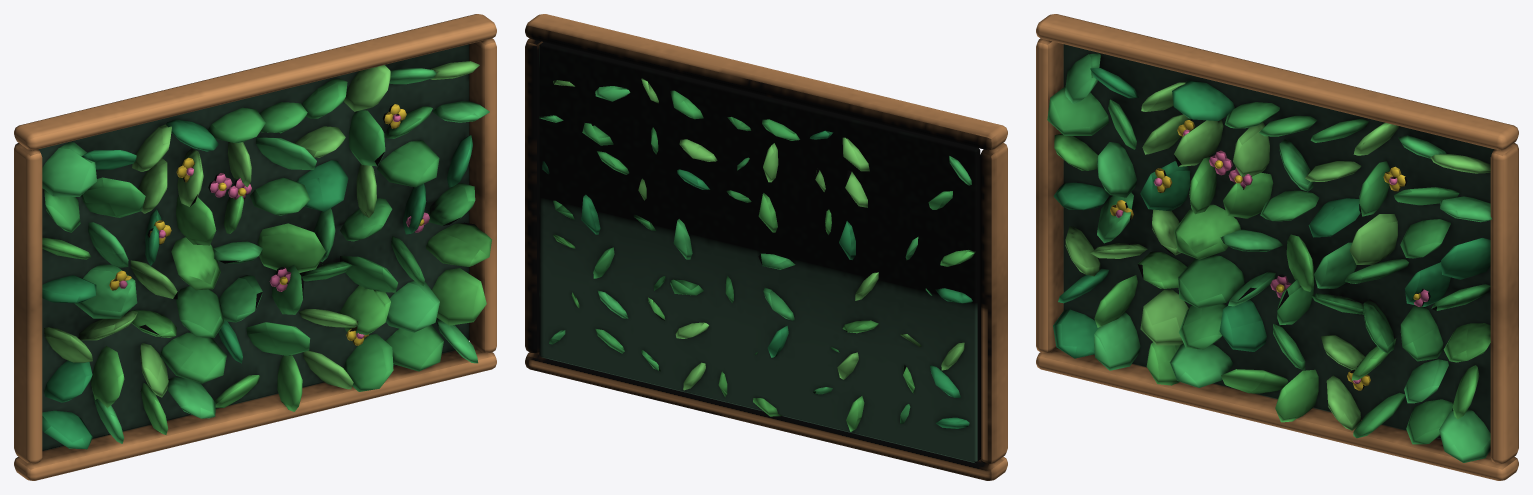
File: plant_wall.glb
3 renders of one model, left to right at view 1: azimuth 30°, elevation 25°; view 2: azimuth 150°, elevation 25°; view 3: azimuth 330°, elevation 25°, orthographic.
Visible parts, largest first — view 1: plant_wall; view 2: plant_wall; view 3: plant_wall.
Boxes of the visible parts, x1=… form: plant_wall: x1=14, y1=14, x2=496, y2=480; plant_wall: x1=525, y1=14, x2=1007, y2=480; plant_wall: x1=1036, y1=14, x2=1518, y2=480.
Bounding box in the file's own units: 2.04 × 1.44 × 0.3095.
Materials: 9 (9 with a texture image).
